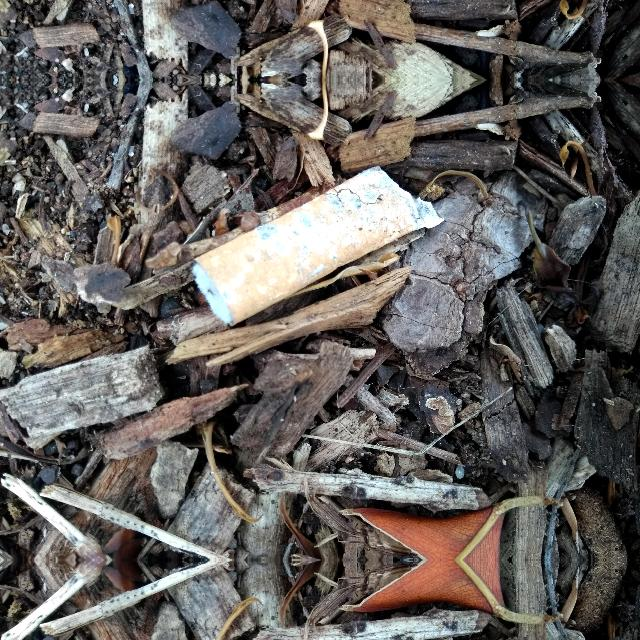Paper: (182, 158, 460, 336)
